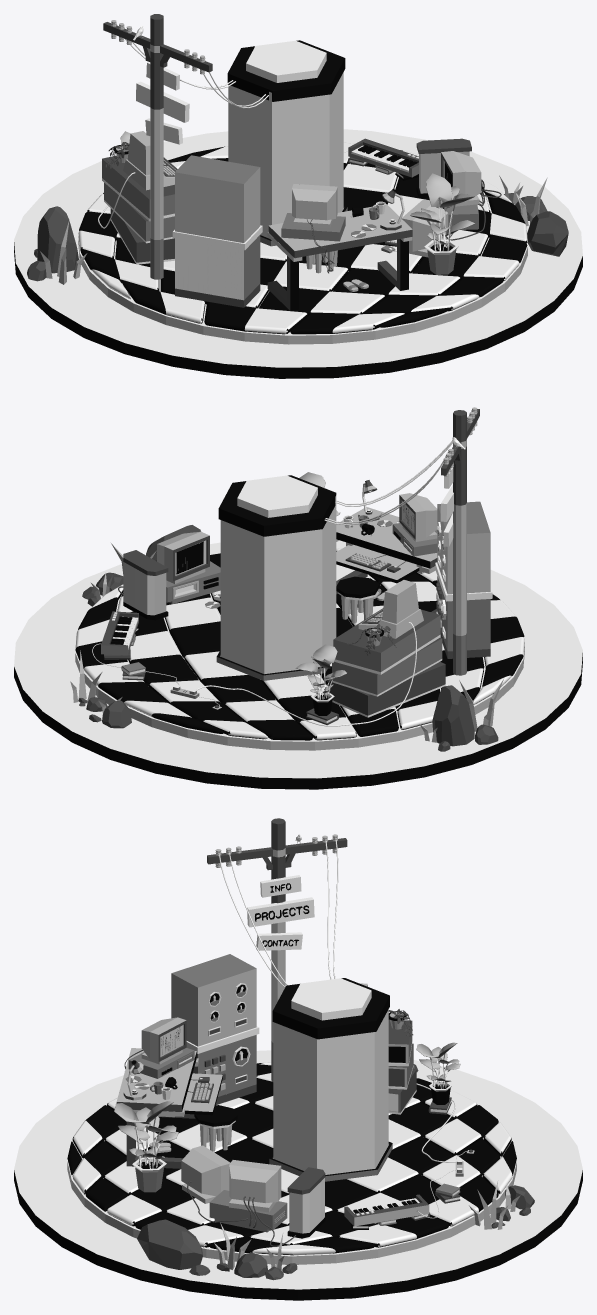
File: portfolio_v2.glb
3 views of the same model, one above another, from view 1: azimuth 30°, elevation 25°; view 2: azimuth 150°, elevation 25°; view 3: azimuth 270°, elevation 25° (orthographic).
Visible parts, largest first — view 1: floor, timemachine, capsule_glass, capsule, powerline, desk, computer_03, computer_02, bigplant, rockcluster_03, drawer_01, rockcluster_01 (+10 smaller); view 2: floor, capsule_glass, capsule, timemachine, powerline, desk, drawer_01, computer_03, computer_01, drawer_03, computer_02, rockcluster_03 (+11 smaller); view 3: floor, capsule_glass, timemachine, computer_03, capsule, powerline, rockcluster_01, desk, bigplant, computer_02, piano, plank_projects_raycaster_pointer (+12 smaller).
Boxes of the visible parts, x1,y1,x2,y2 form: floor: [14, 129, 582, 378]; timemachine: [172, 155, 262, 307]; capsule_glass: [228, 72, 343, 238]; capsule: [227, 40, 347, 246]; powerline: [103, 14, 268, 279]; desk: [267, 204, 412, 310]; computer_03: [381, 151, 501, 257]; computer_02: [281, 184, 345, 273]; bigplant: [410, 173, 475, 274]; rockcluster_03: [27, 206, 78, 281]; drawer_01: [102, 155, 177, 221]; rockcluster_01: [504, 193, 568, 256]; floor: [14, 540, 582, 789]; capsule_glass: [220, 495, 336, 674]; capsule: [216, 475, 336, 680]; timemachine: [435, 501, 492, 658]; powerline: [324, 407, 479, 675]; desk: [336, 507, 437, 613]; drawer_01: [333, 608, 440, 674]; computer_03: [118, 531, 220, 604]; computer_01: [189, 580, 423, 726]; drawer_03: [328, 662, 445, 717]; computer_02: [345, 493, 437, 572]; rockcluster_03: [432, 685, 498, 751]; floor: [14, 1050, 582, 1300]; capsule_glass: [273, 1009, 388, 1174]; timemachine: [171, 954, 259, 1104]; computer_03: [181, 1145, 295, 1246]; capsule: [269, 978, 392, 1181]; powerline: [207, 818, 347, 1081]; rockcluster_01: [137, 1219, 297, 1280]; desk: [116, 1048, 222, 1168]; bigplant: [114, 1101, 178, 1192]; computer_02: [124, 1017, 213, 1103]; piano: [344, 1167, 462, 1226]; plank_projects_raycaster_pointer: [247, 897, 314, 927].
Bounding box in the file's own units: 8.86 × 4.91 × 8.86.
17 materials, 4 textured.
